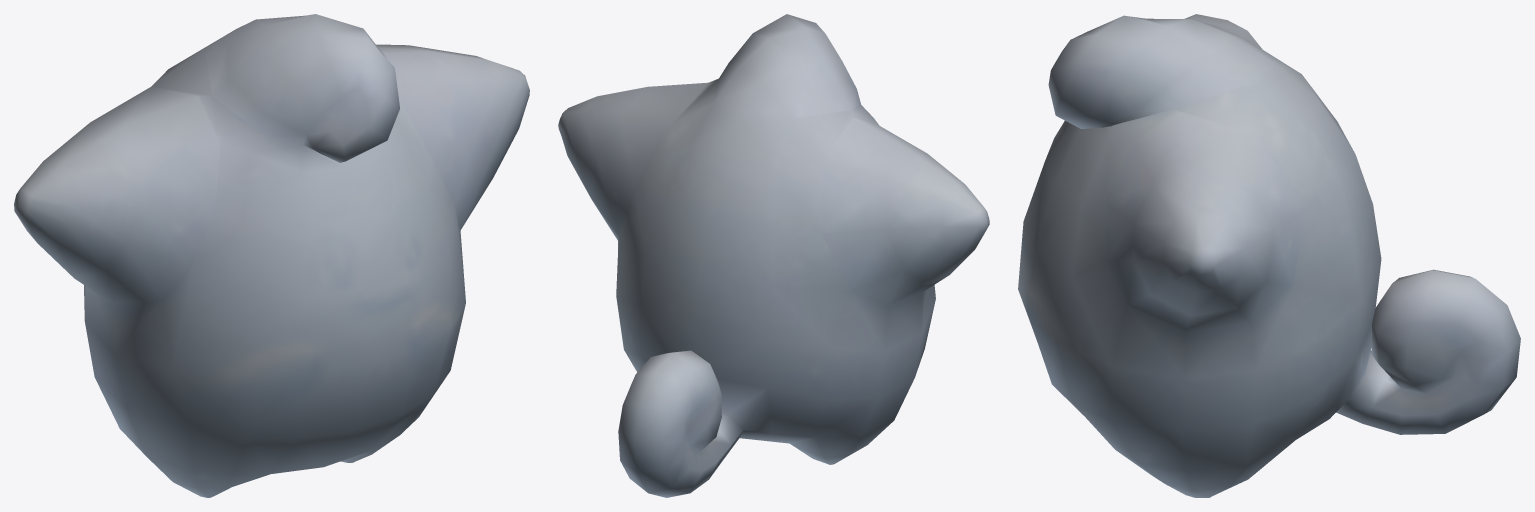
File: pref_sm_city_cleffa_snow_lv3.fbx
3 views of the same model, side by side, from view 1: azimuth 30°, elevation 25°; view 2: azimuth 150°, elevation 25°; view 3: azimuth 270°, elevation 25° (orthographic). The views are drawn at different scales.
Parts seen in each view (by area): view 1: pref_sm_city_cleffa_snow_lv3; view 2: pref_sm_city_cleffa_snow_lv3; view 3: pref_sm_city_cleffa_snow_lv3.
Boxes of the visible parts, x1,y1,x2,y2 form: pref_sm_city_cleffa_snow_lv3: (14, 14, 529, 497); pref_sm_city_cleffa_snow_lv3: (558, 14, 989, 497); pref_sm_city_cleffa_snow_lv3: (1018, 14, 1520, 497).
Size of the model in its own units: 0.8076 by 0.7127 by 0.7214.
